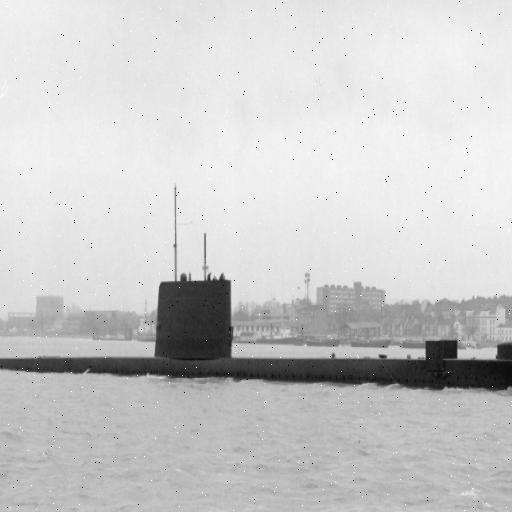submarine: (1, 274, 512, 392)
